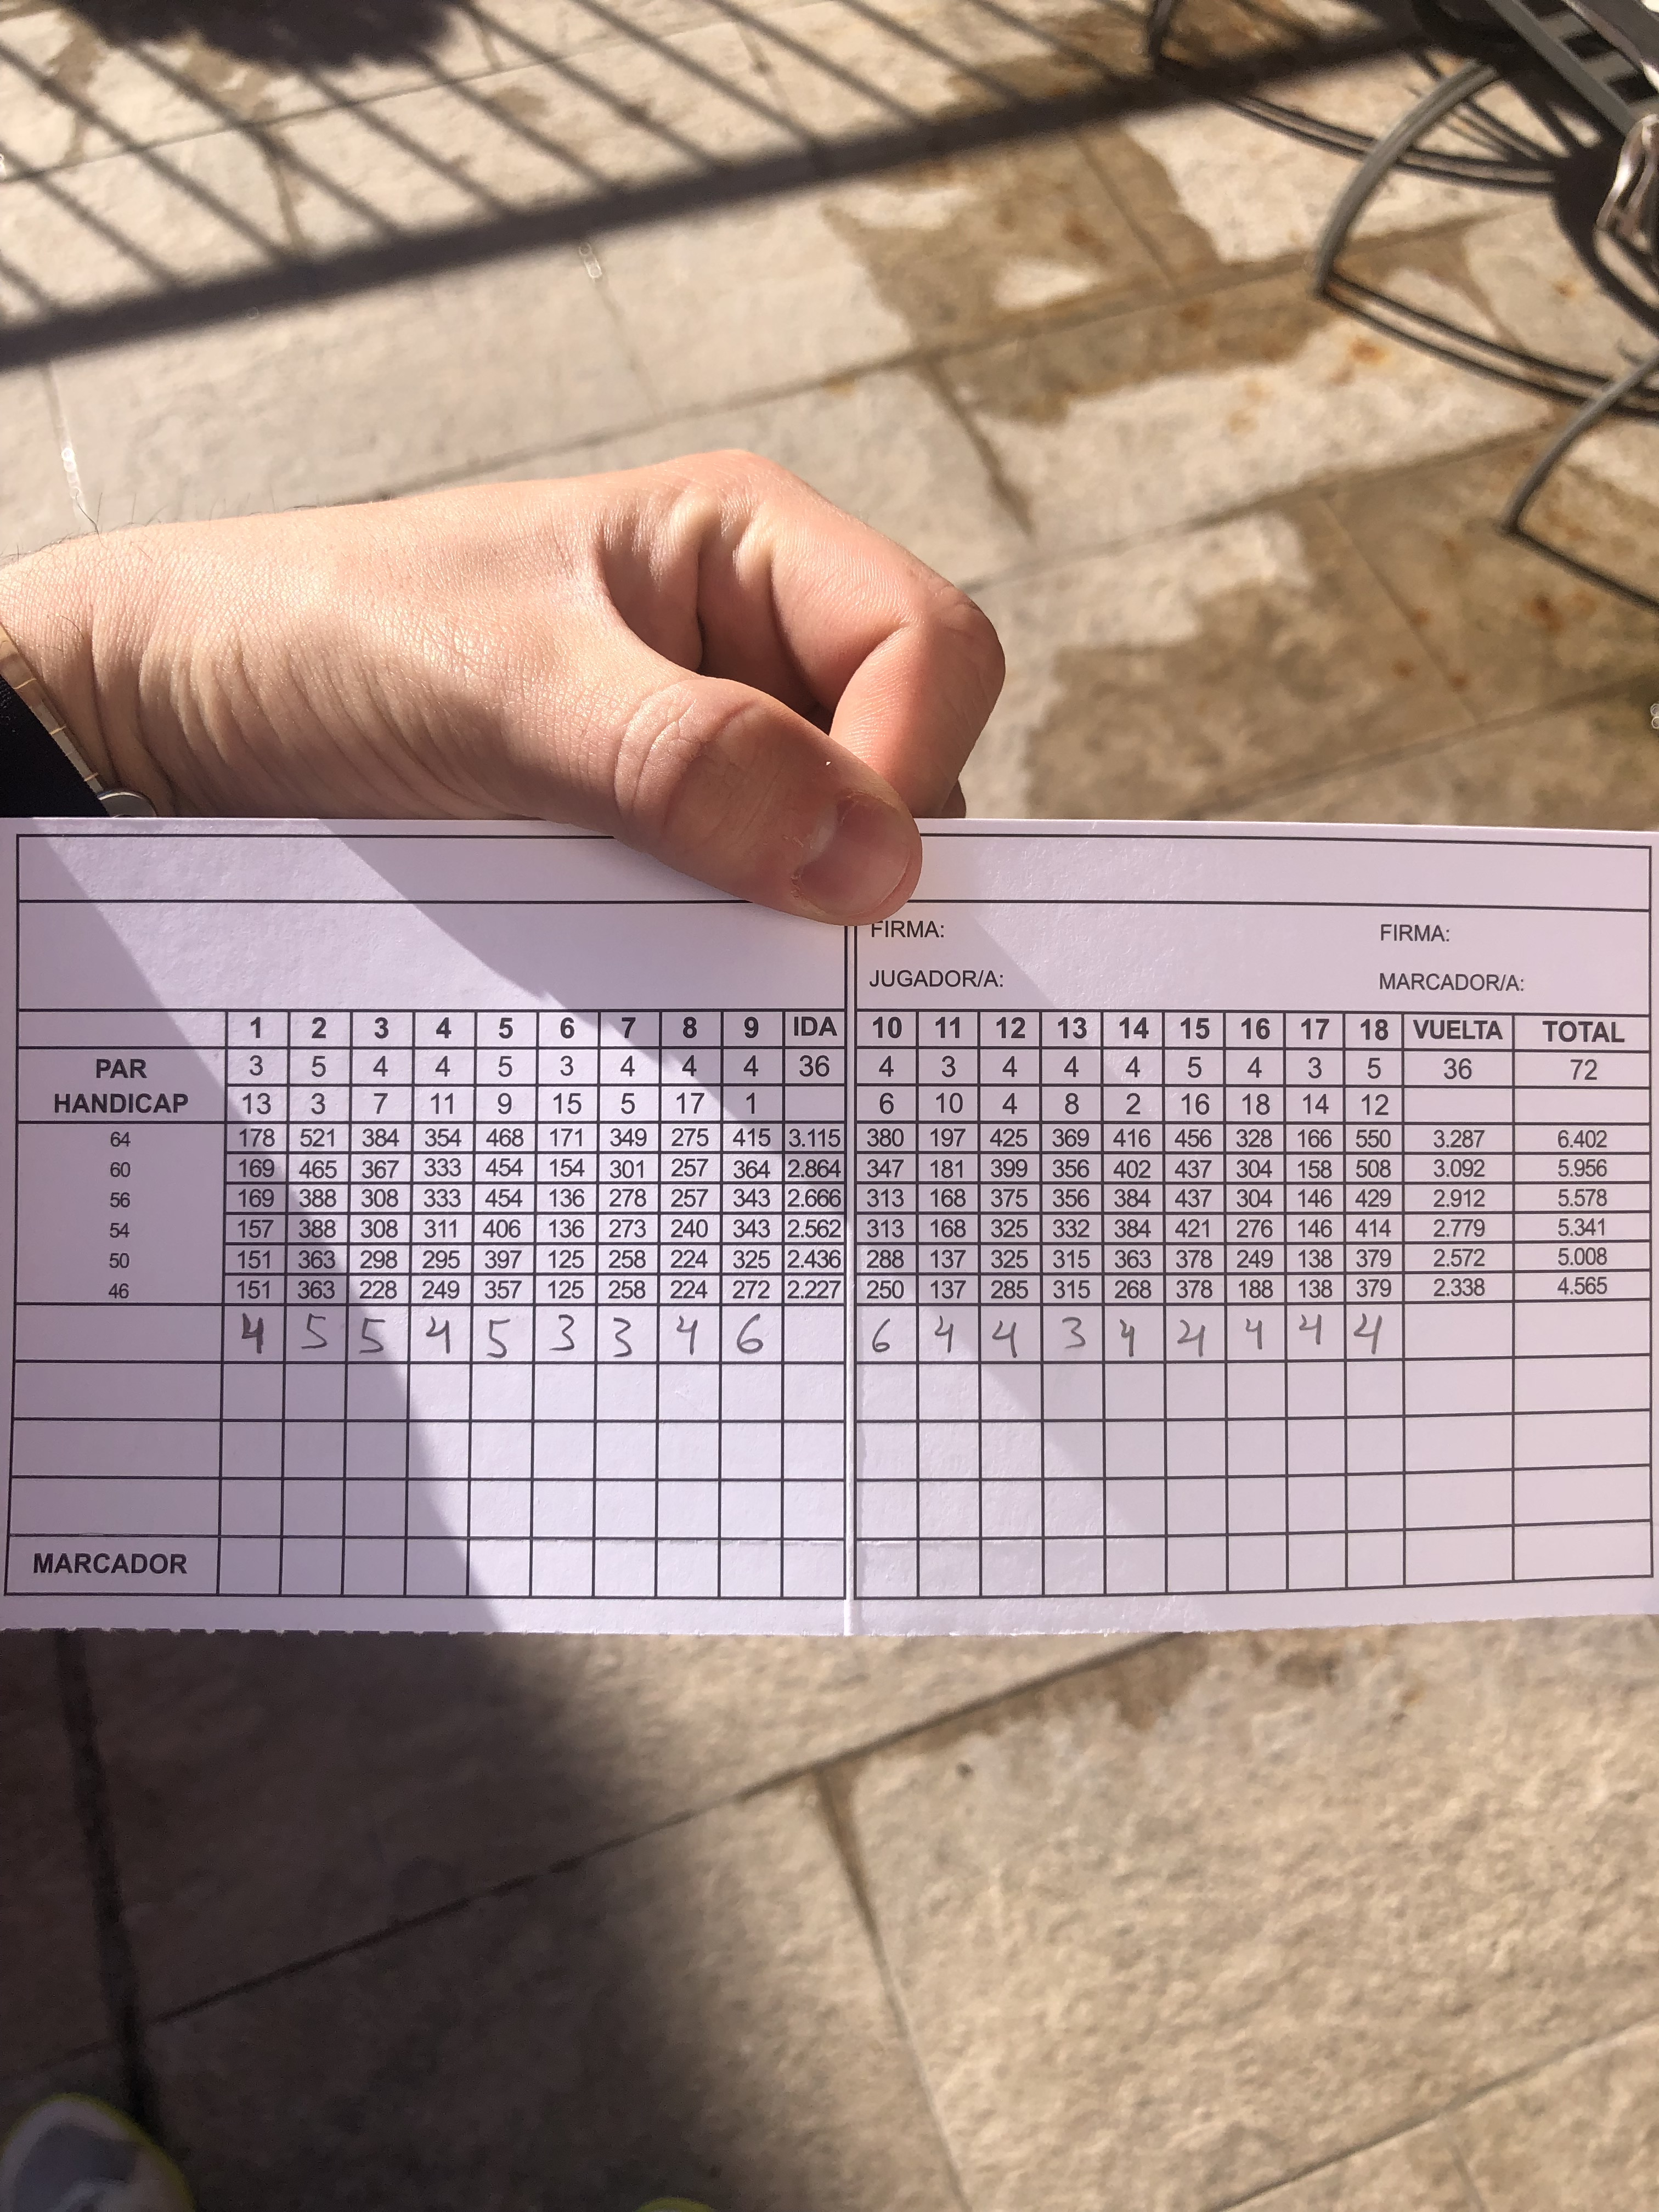par: (91, 1052, 1605, 1087)
score: (232, 1306, 1398, 1364)
